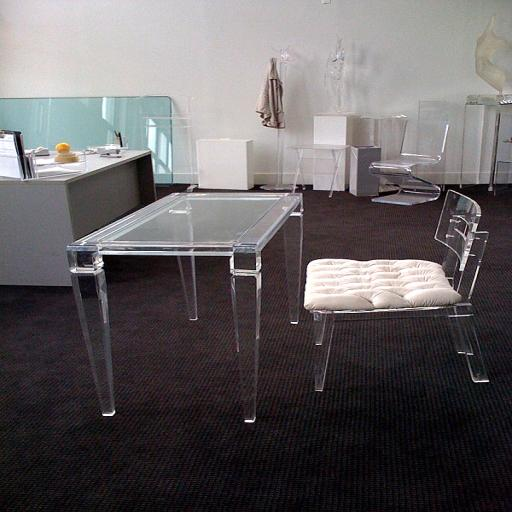chair: (304, 188, 490, 392), (368, 118, 450, 205)
desk: (1, 148, 157, 287)
wall: (1, 0, 512, 182)
